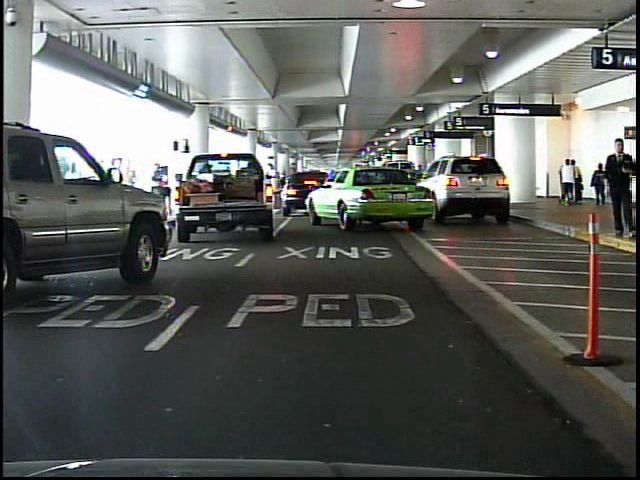person: (598, 136, 636, 244), (150, 159, 173, 219), (569, 157, 586, 209), (562, 156, 577, 206)
